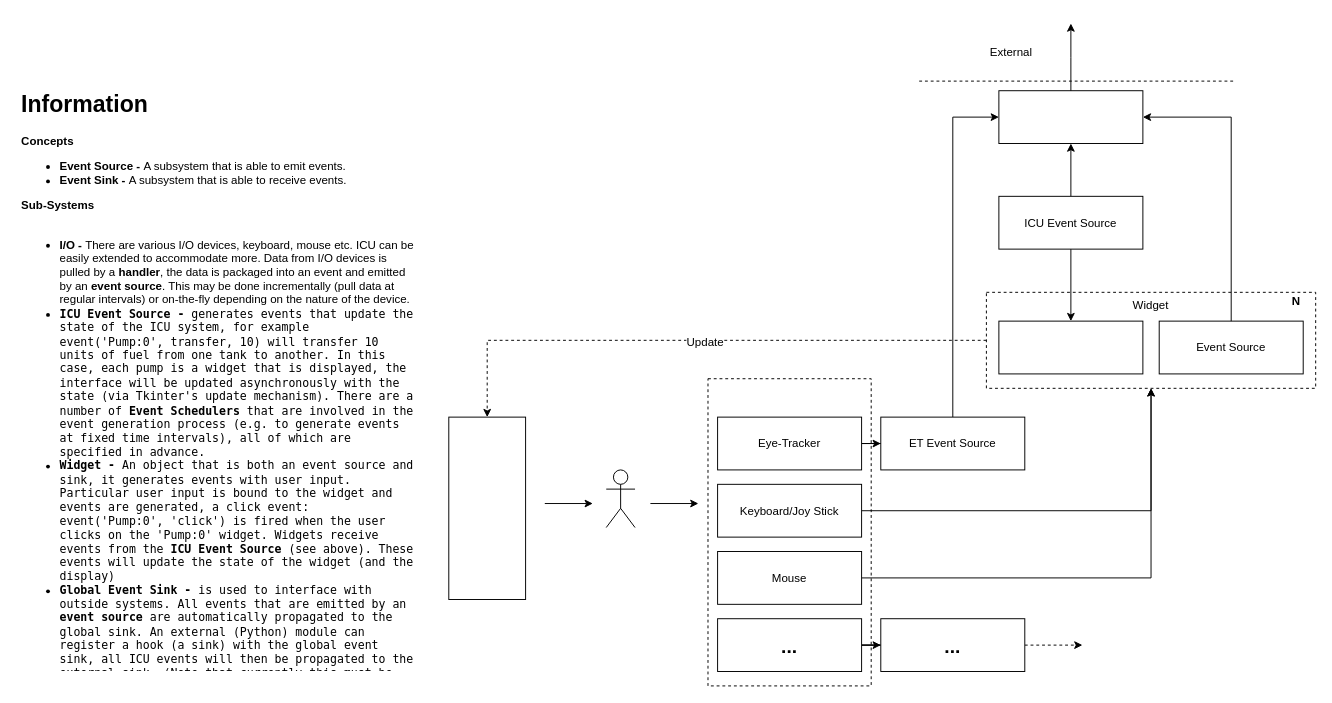
The diagram is 1332 pixels wide and 703 high, and some of its shapes have lost their labels. The shapes that lost their labels are listed below. From the top down, each one's box as (x1, y1, x2, y2) in pixels, then its label:
(998, 90, 1143, 144): Global Event Sink (Event API)
(998, 320, 1143, 374): Event Sink
(448, 416, 526, 600): Display
(605, 469, 635, 528): User
(707, 378, 871, 686): I/O
